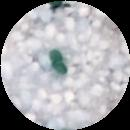Basil: (48, 49, 69, 79)
